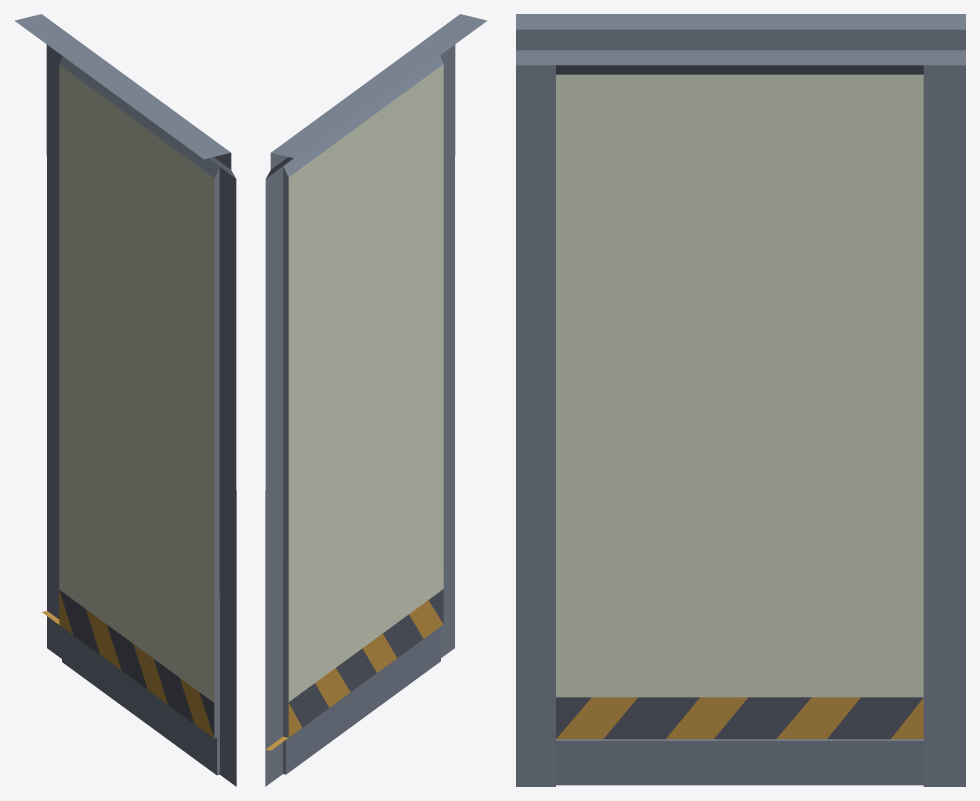
The model's file is g_t_GarageWall.fbx.
The picture shows the model from 3 angles, left to right: view 1: azimuth 30°, elevation 25°; view 2: azimuth 150°, elevation 25°; view 3: azimuth 270°, elevation 25°; orthographic projection. The views are drawn at different scales.
Parts seen in each view (by area): view 1: g_t_TiledWall; view 2: g_t_TiledWall; view 3: g_t_TiledWall.
Boxes of the visible parts, x1,y1,x2,y2 form: g_t_TiledWall: (15,14,236,786); g_t_TiledWall: (265,14,486,786); g_t_TiledWall: (516,14,965,786).
Bounding box in the file's own units: 9.99 × 185 × 100.
